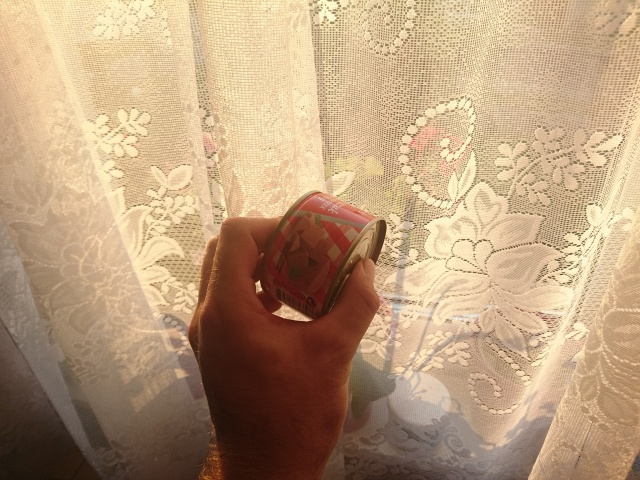Podravka Luncheon Meat 150g: (256, 187, 390, 330)
